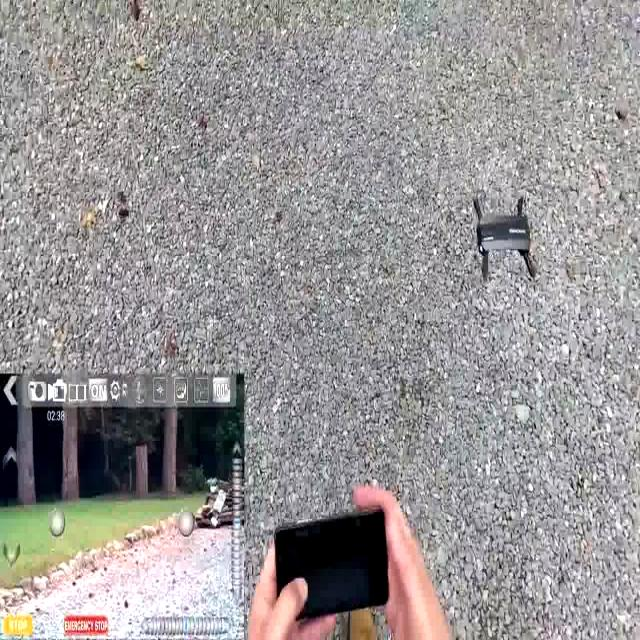drone: (459, 184, 543, 285)
